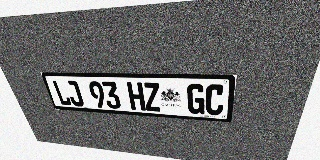3: (101, 81, 121, 109)
9: (87, 81, 107, 108)
C: (205, 84, 225, 116)
G: (187, 84, 205, 114)
H: (126, 82, 146, 111)
J: (64, 80, 85, 107)
L: (51, 80, 72, 106)
Z: (142, 82, 161, 112)
